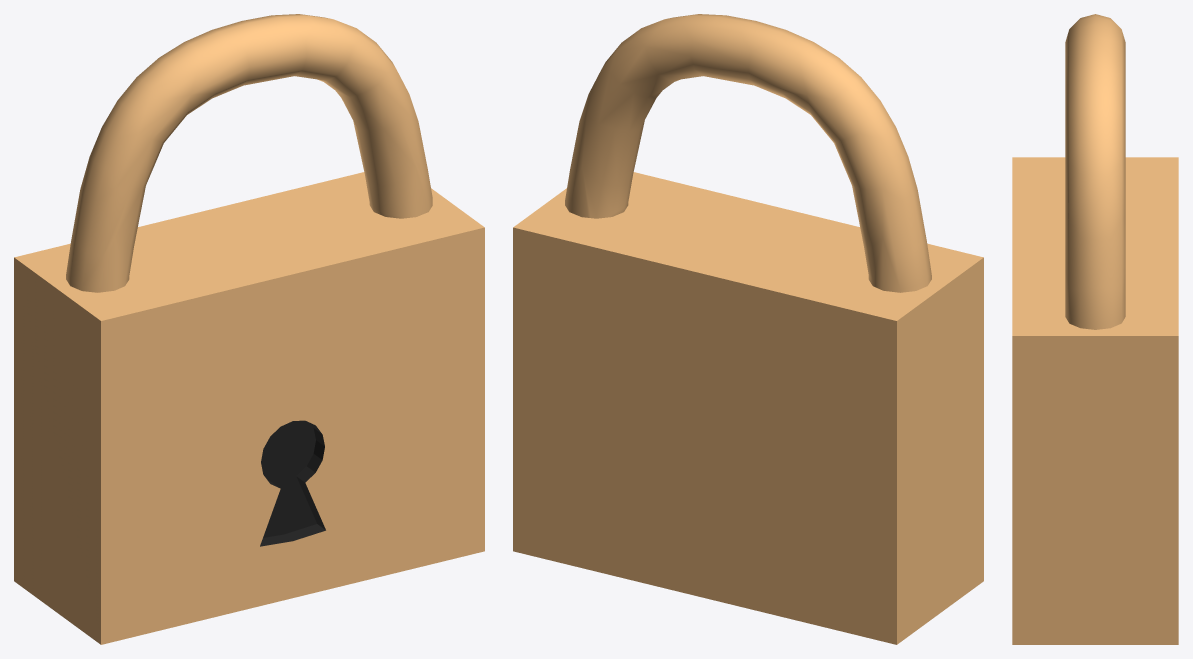
File: lock.glb
3 renders of one model, left to right at view 1: azimuth 30°, elevation 25°; view 2: azimuth 150°, elevation 25°; view 3: azimuth 270°, elevation 25°, orthographic. The views are drawn at different scales.
Parts seen in each view (by area): view 1: Cube.002, BezierCircle; view 2: Cube.002, BezierCircle; view 3: Cube.002, BezierCircle.
Boxes of the visible parts, x1,y1,x2,y2 form: Cube.002: (14, 172, 484, 644); BezierCircle: (66, 14, 432, 292); Cube.002: (513, 172, 983, 644); BezierCircle: (565, 14, 931, 292); Cube.002: (1012, 157, 1178, 644); BezierCircle: (1065, 14, 1125, 329).
Bounding box in the file's own units: 1.08 × 1.47 × 0.4259.
